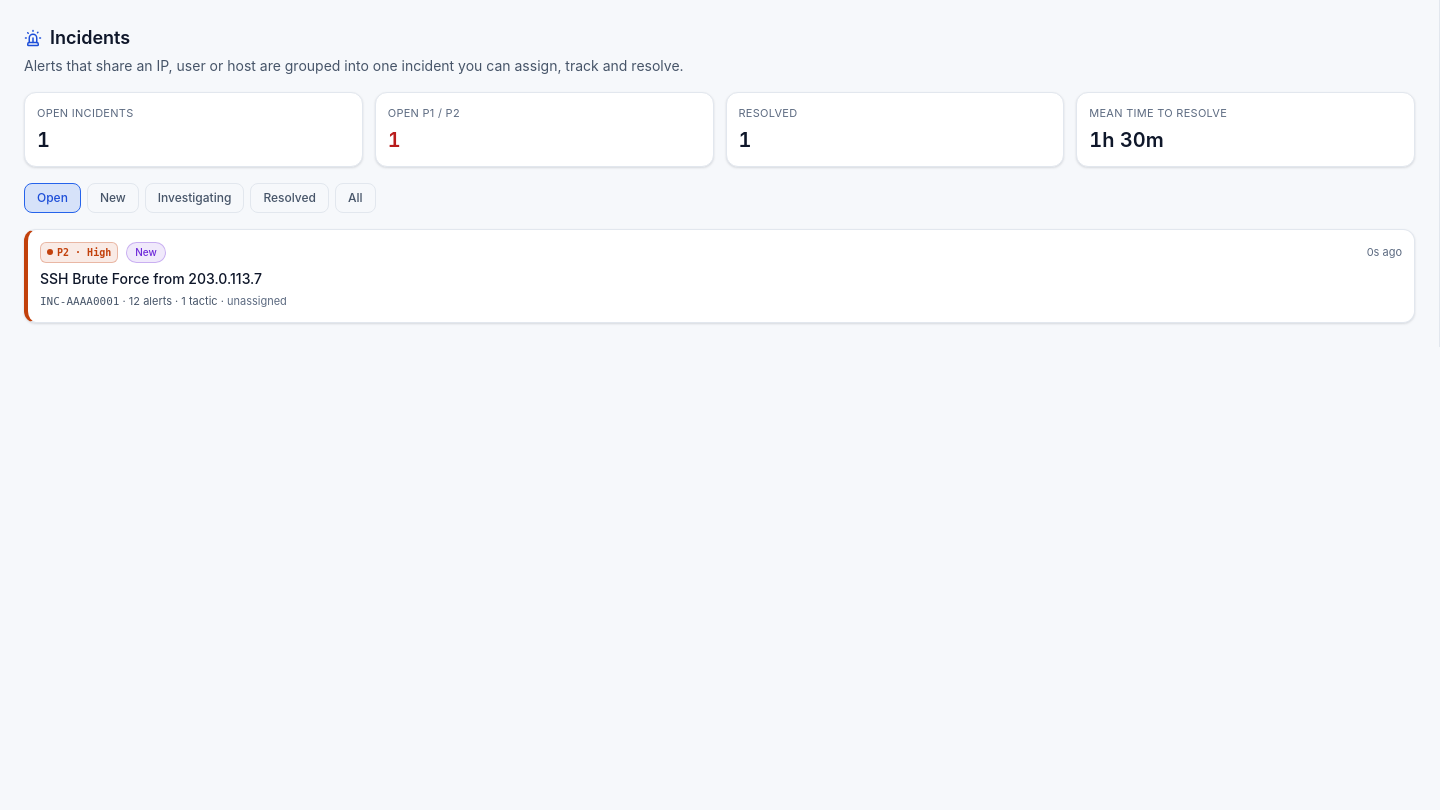
Test: Incidents page › opens an incident with kill chain, timeline and AI investigation
The width and height of the screenshot is (1440, 810).
Click the text "SSH Brute Force from 203.0.113.7" at point(151, 278), box 40,270 -> 262,286
(page scrolled)
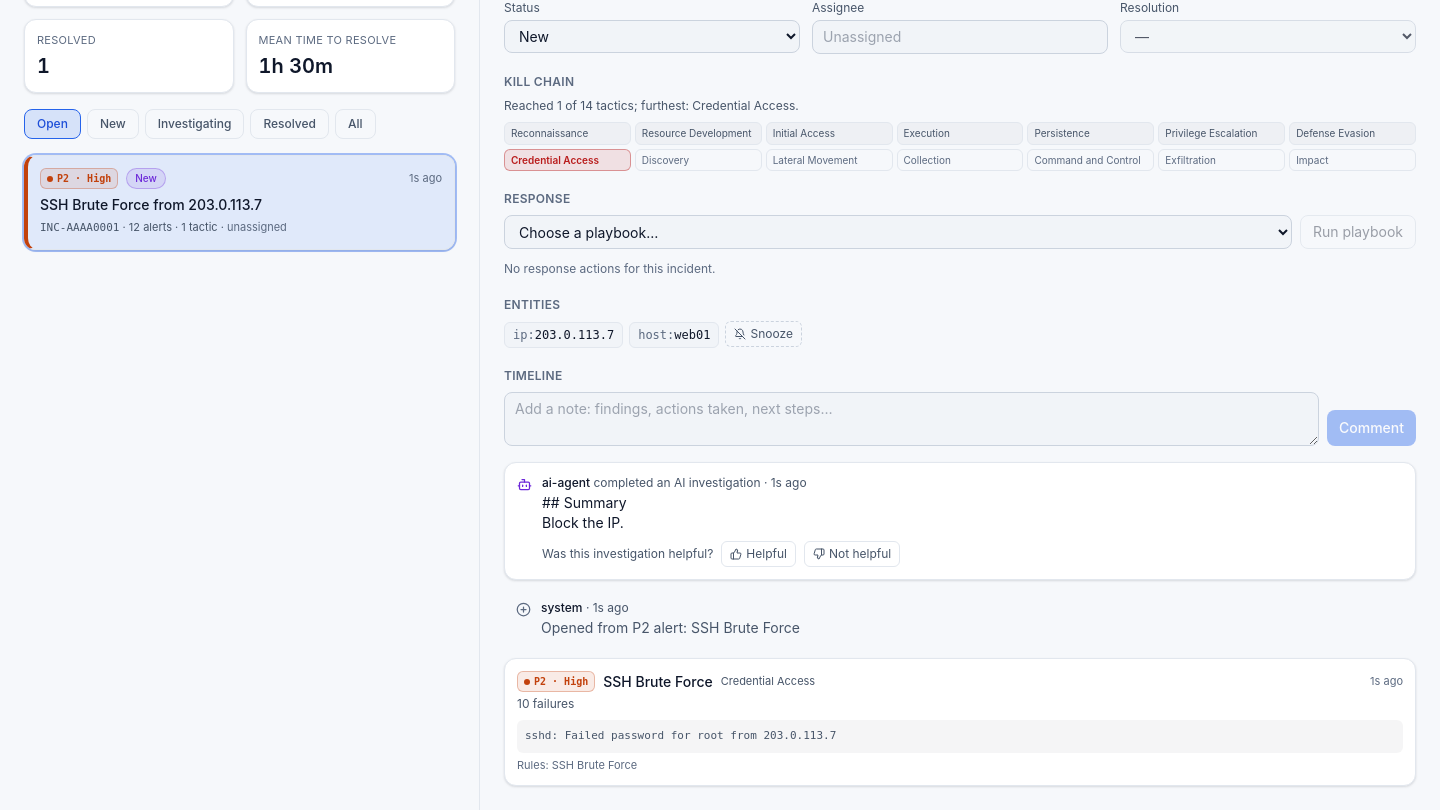
Expected: the text "Reached 1 of 14 tactics; furthest: Credential Access." is shown, 504,98 -> 799,113
Expected: the text "ai-agent completed an AI investigation · 1s ago" is shown, 542,475 -> 807,490
Expected: the text "sshd: Failed password for root from 203.0.113.7" is shown, 517,720 -> 1403,752
